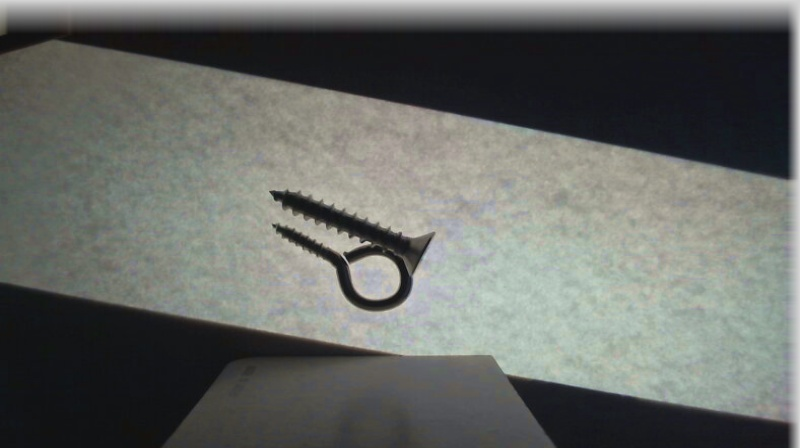O001: (266, 221, 415, 312)
S001: (262, 186, 437, 271)
